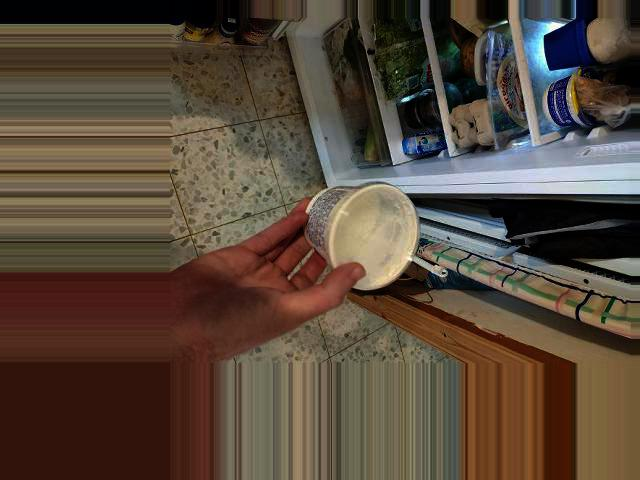cotage: (306, 188, 429, 282)
